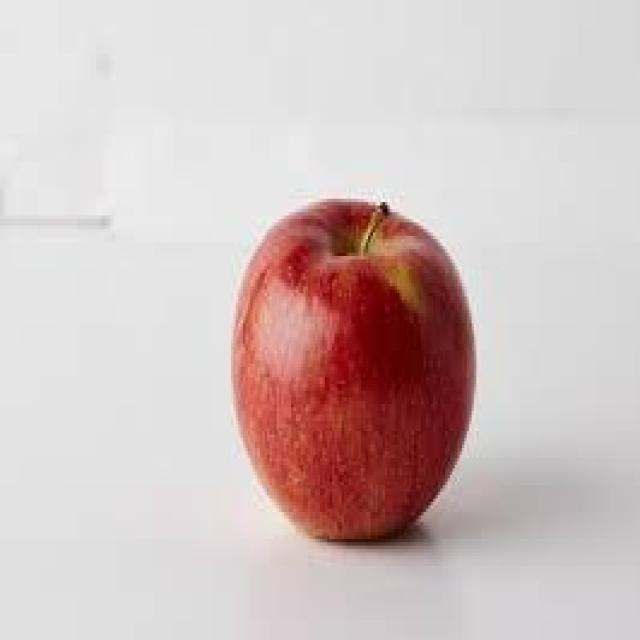maca: (228, 195, 476, 542)
